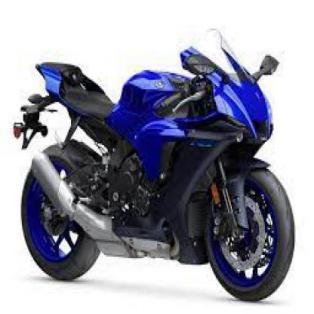Motocicleta: (9, 27, 298, 304)
